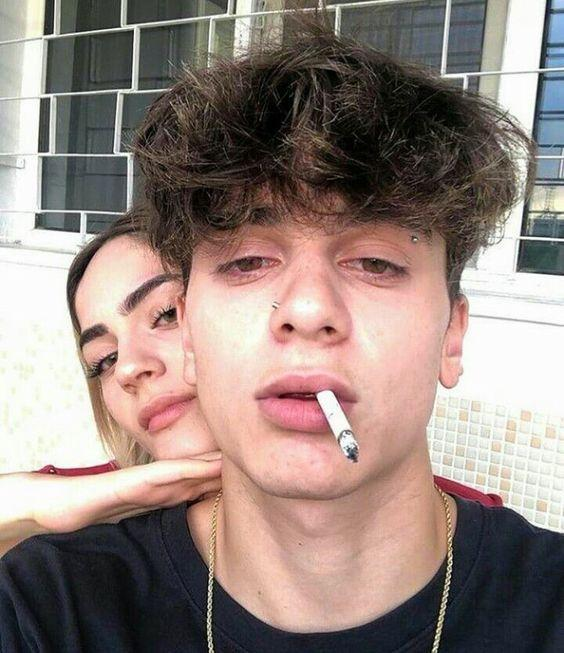cigarette: (315, 389, 359, 462)
